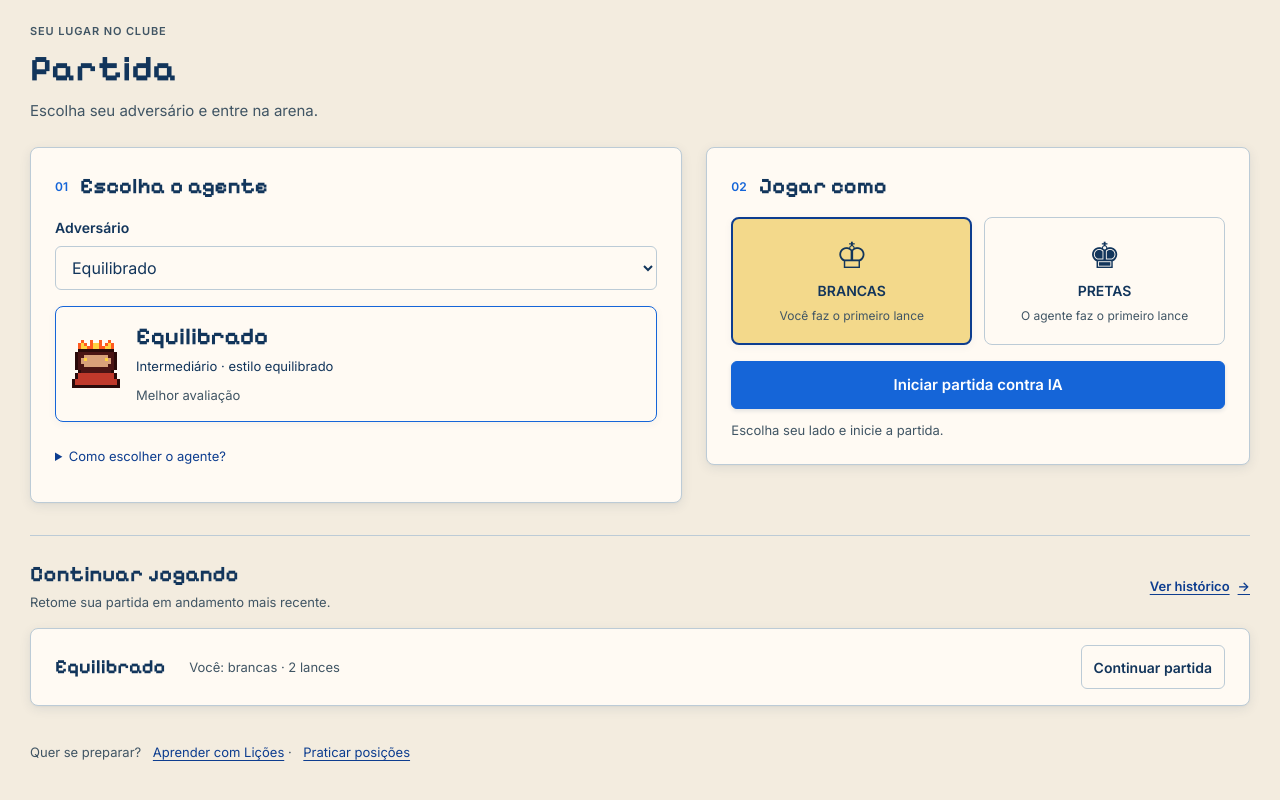
it: retoma uma partida ativa da lista sem reabrir o setup
Click the button "Continuar partida". click: (1153, 667)
box: [1081,645,1225,689]
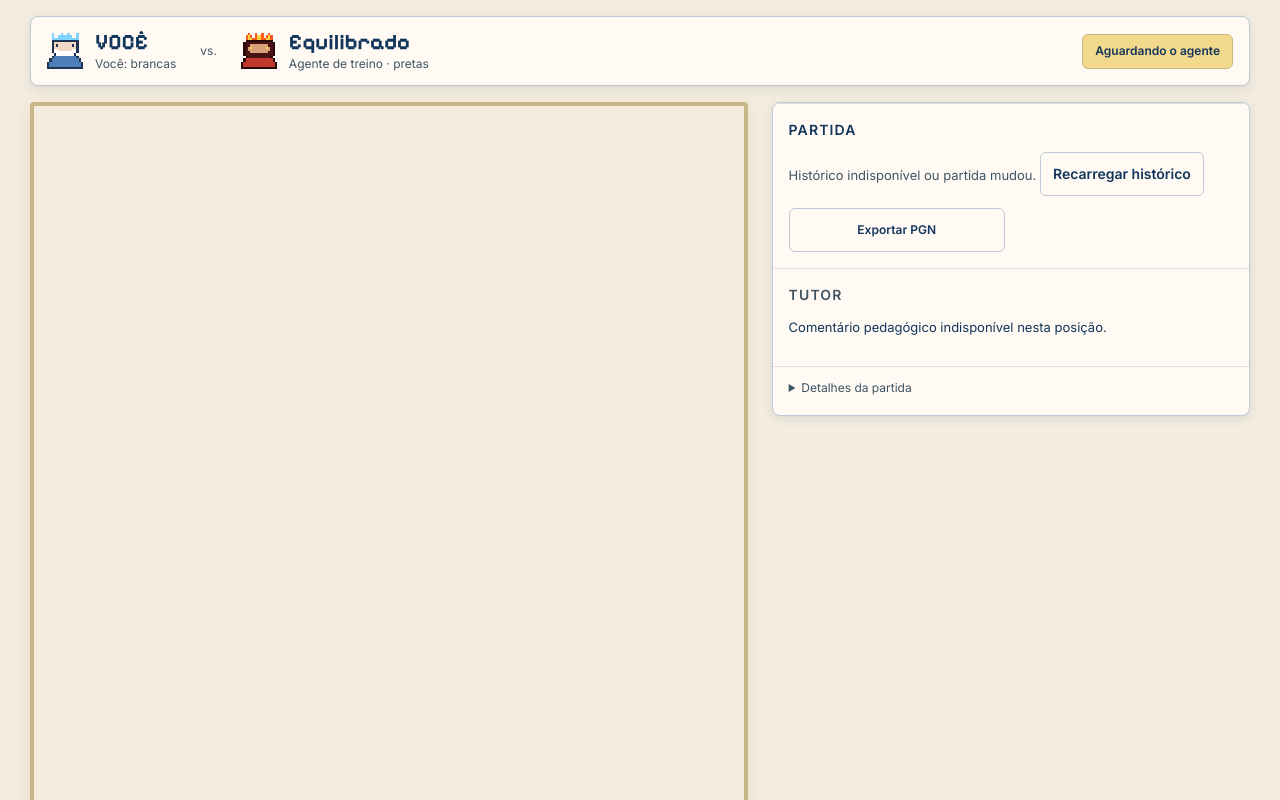
Expected: the text labelled "seu lado" is gone
